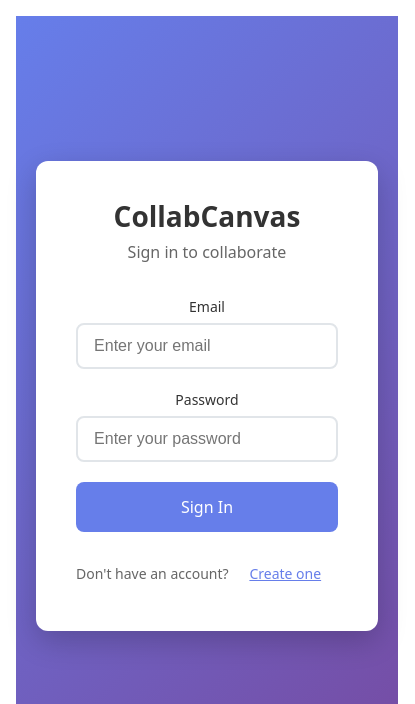
Test case: AuthGate › should show error message when authentication fails
The width and height of the screenshot is (415, 704).
// Fill in login form
Type "test@example.com" into the field labelled "Email" at (207, 346), box [76, 322, 338, 368]
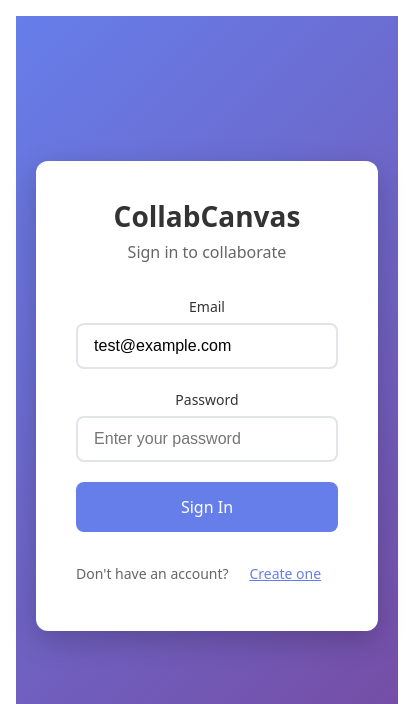
Type "wrongpassword" into the password field labelled "Password" at (207, 438), box [76, 416, 338, 462]
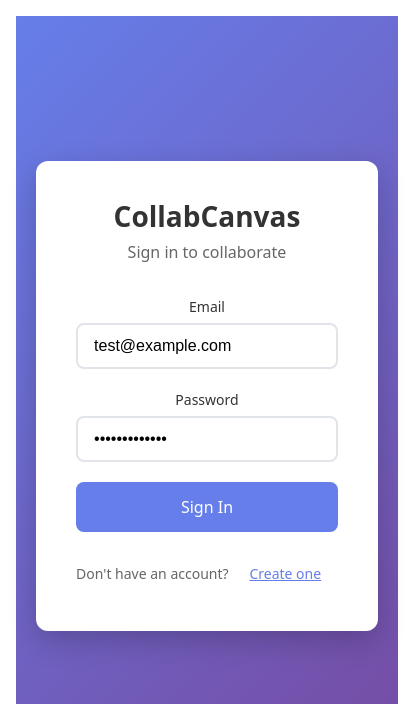
// Submit form
Click the button "Sign In" at (207, 506), box [76, 482, 338, 532]
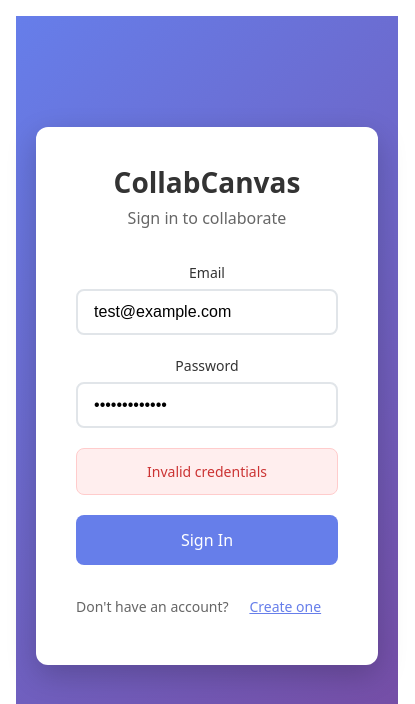
Now the text "Invalid credentials" is shown, box [76, 448, 338, 495]
